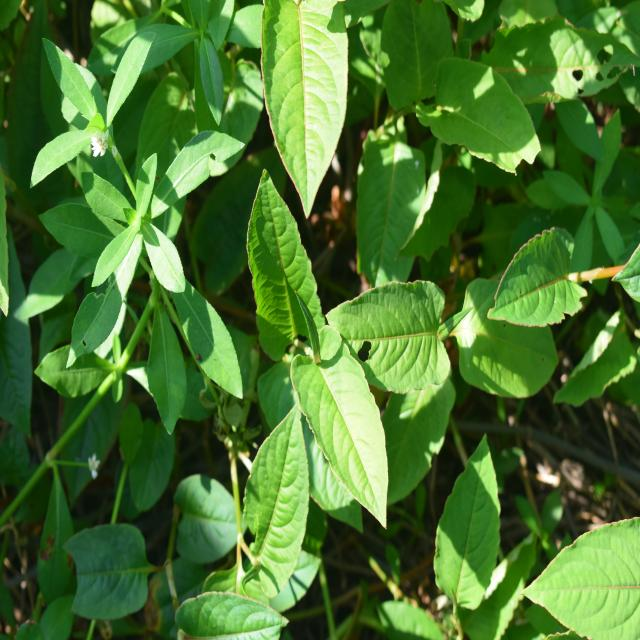Chinese_knotweed: (230, 180, 398, 509), (363, 213, 594, 404)
